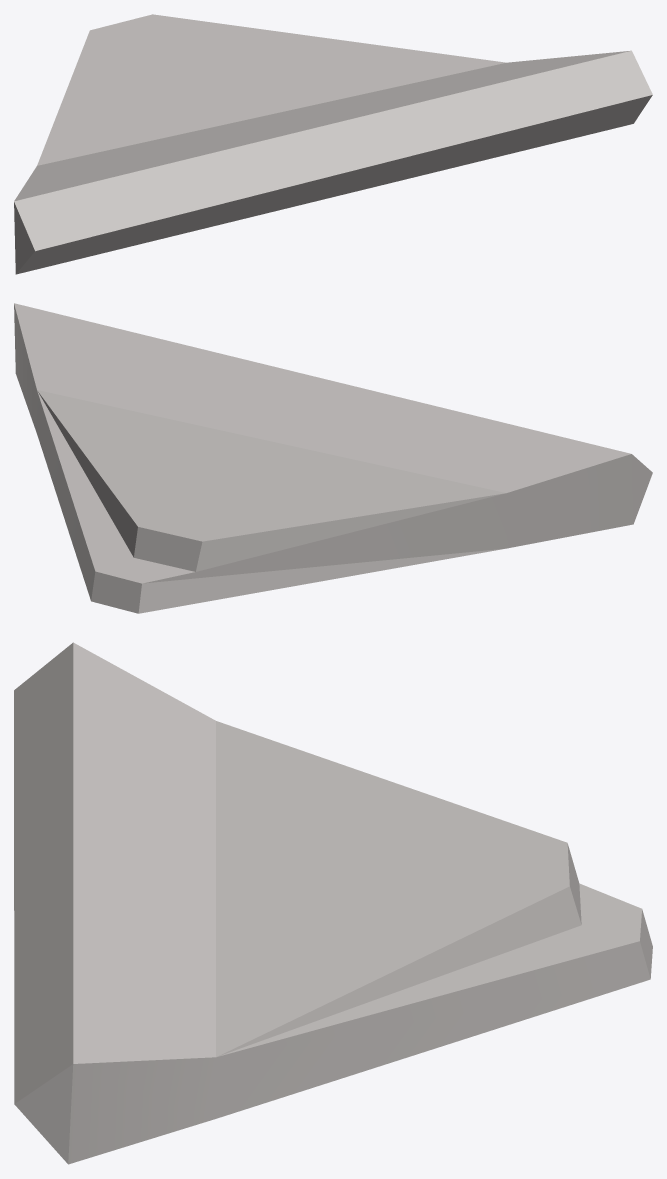
File: SM_Prop_Cafe_Napkin_02.obj
3 renders of one model, top to bottom at view 1: azimuth 30°, elevation 25°; view 2: azimuth 150°, elevation 25°; view 3: azimuth 270°, elevation 25°, orthographic. The views are drawn at different scales.
Parts seen in each view (by area): view 1: SM_Prop_Cafe_Napkin_02_0; view 2: SM_Prop_Cafe_Napkin_02_0; view 3: SM_Prop_Cafe_Napkin_02_0.
Boxes of the visible parts, left/top/right/bottom form: SM_Prop_Cafe_Napkin_02_0: left=14, top=14, right=652, bottom=274; SM_Prop_Cafe_Napkin_02_0: left=14, top=303, right=652, bottom=613; SM_Prop_Cafe_Napkin_02_0: left=14, top=642, right=652, bottom=1164.
Bounding box in the file's own units: 0.308 × 0.0371 × 0.1973.
1 material, 1 textured.
